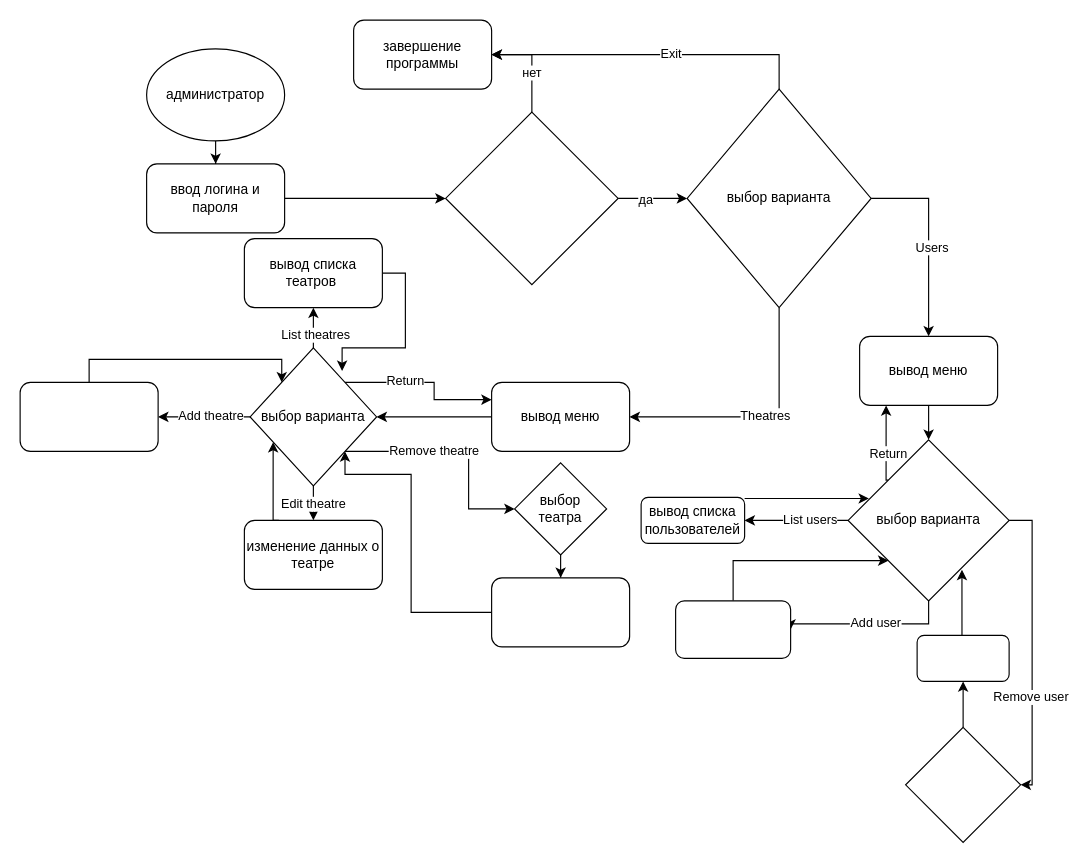
Image size: 1088x863. Some labels were removed from this diagram. Each missing label, with the centre of its shape:
выбор пользователя: the point at 962,784
добавление нового пользователя: the point at 732,629
добавление нового театра: the point at 88,416
правильно ли введены логин и пароль: the point at 531,198
удаление пользователя: the point at 962,657
удаление театра: the point at 560,612
